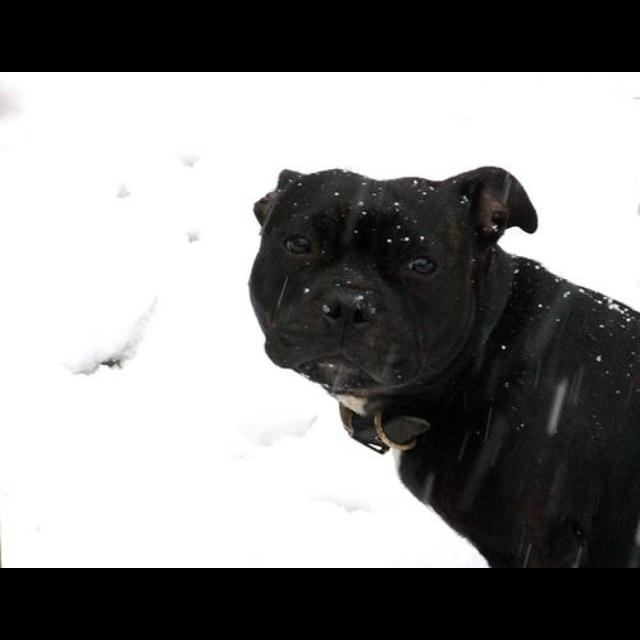staffford: (247, 164, 639, 568)
